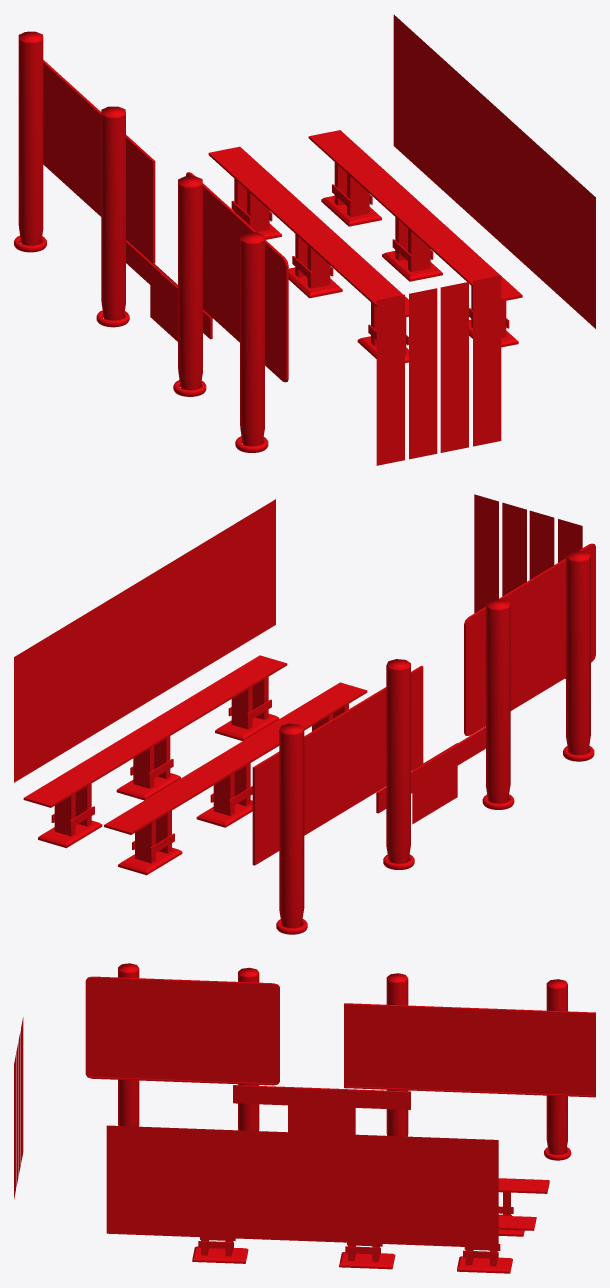
The model's file is Lobby Export.fbx.
3 views of the same model, one above another, from view 1: azimuth 30°, elevation 25°; view 2: azimuth 150°, elevation 25°; view 3: azimuth 270°, elevation 25° (orthographic). The views are drawn at different scales.
Parts seen in each view (by area): view 1: Plane.046, Plane.049, Plane.050, Plane.048, Plane.047; view 2: Plane.046, Plane.049, Plane.048, Plane.047, Plane.050; view 3: Plane.046, Plane.049, Plane.048, Plane.050, Plane.047.
Part boxes in pixels (x1=…): Plane.046: x1=14, y1=31, x2=288, y2=452; Plane.049: x1=393, y1=14, x2=595, y2=328; Plane.050: x1=376, y1=275, x2=501, y2=465; Plane.048: x1=308, y1=130, x2=522, y2=347; Plane.047: x1=208, y1=146, x2=408, y2=363; Plane.046: x1=252, y1=543, x2=595, y2=934; Plane.049: x1=14, y1=499, x2=275, y2=782; Plane.048: x1=23, y1=655, x2=287, y2=848; Plane.047: x1=104, y1=682, x2=367, y2=875; Plane.050: x1=474, y1=494, x2=582, y2=678; Plane.046: x1=85, y1=963, x2=595, y2=1160; Plane.049: x1=106, y1=1125, x2=498, y2=1248; Plane.048: x1=192, y1=1215, x2=536, y2=1273; Plane.050: x1=14, y1=1017, x2=23, y2=1199; Plane.047: x1=498, y1=1178, x2=549, y2=1236.
Size of the model in its own units: 383 by 201 by 617.
